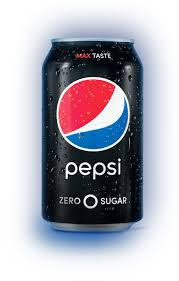can: (38, 35, 145, 233)
